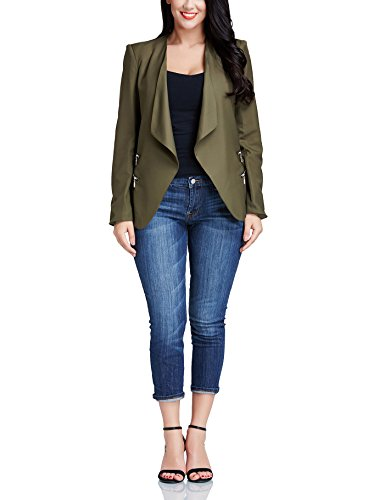F_W_suit jacket: (101, 27, 277, 235)
